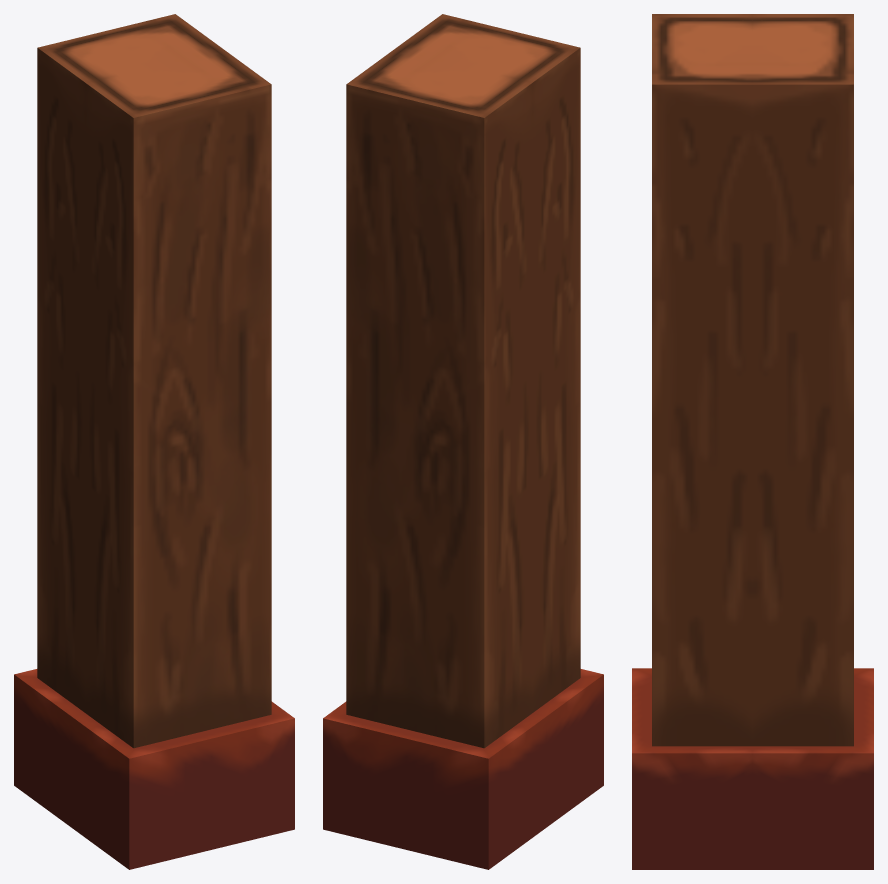
Rendered from Tria_Nature_WallSeparator.fbx.
3 views of the same model, side by side, from view 1: azimuth 30°, elevation 25°; view 2: azimuth 150°, elevation 25°; view 3: azimuth 270°, elevation 25° (orthographic). The views are drawn at different scales.
Parts seen in each view (by area): view 1: Tria_Nature_WallSeparator; view 2: Tria_Nature_WallSeparator; view 3: Tria_Nature_WallSeparator.
Part boxes in pixels (x1,y1,x2,y2): Tria_Nature_WallSeparator: (14, 14, 294, 869); Tria_Nature_WallSeparator: (323, 14, 603, 869); Tria_Nature_WallSeparator: (632, 14, 873, 869).
Bounding box in the file's own units: 96 × 411 × 116.
